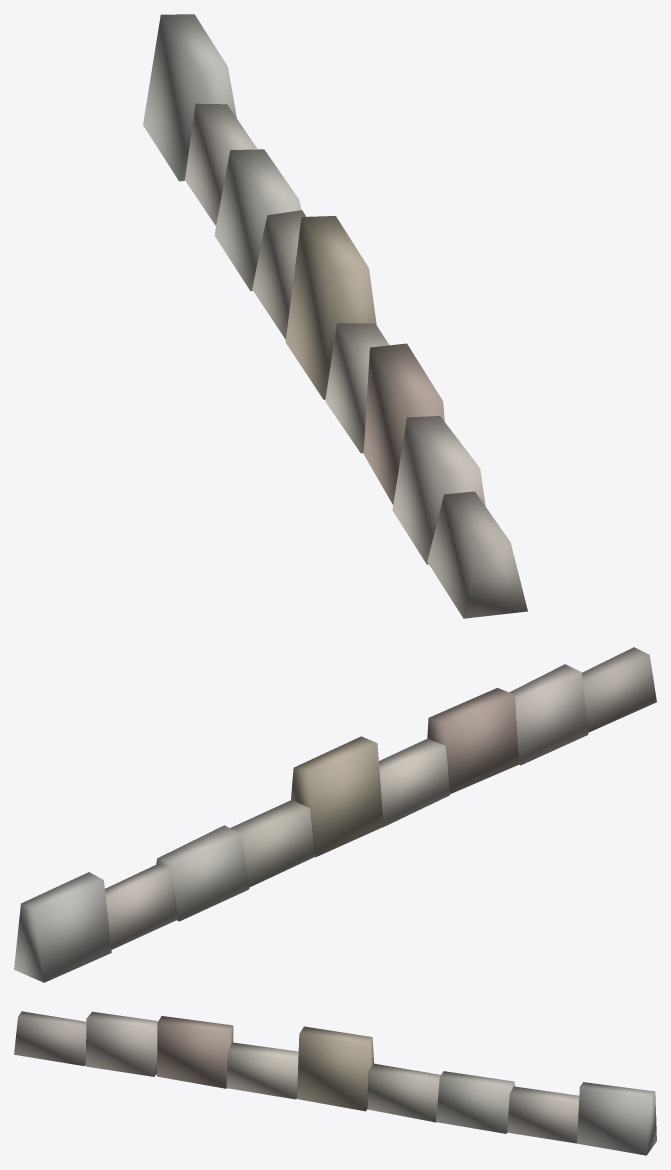
Rendered from farm_-7_-8_far.glb.
3 views of the same model, one above another, from view 1: azimuth 30°, elevation 25°; view 2: azimuth 150°, elevation 25°; view 3: azimuth 270°, elevation 25° (orthographic). The views are drawn at different scales.
Visible parts, largest first — view 1: geometry_0; view 2: geometry_0; view 3: geometry_0.
Boxes of the visible parts, left/top/right/bottom form: geometry_0: left=143, top=14, right=527, bottom=618; geometry_0: left=14, top=647, right=656, bottom=982; geometry_0: left=14, top=1011, right=656, bottom=1155.
Size of the model in its own units: 4.6 by 1.81 by 13.88.
